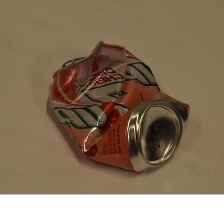can: (35, 36, 196, 176)
